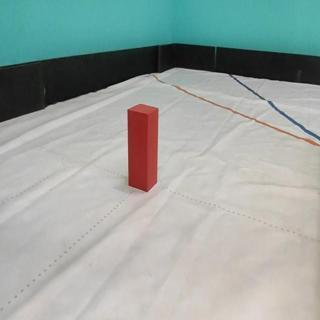redbox: (127, 102, 158, 190)
